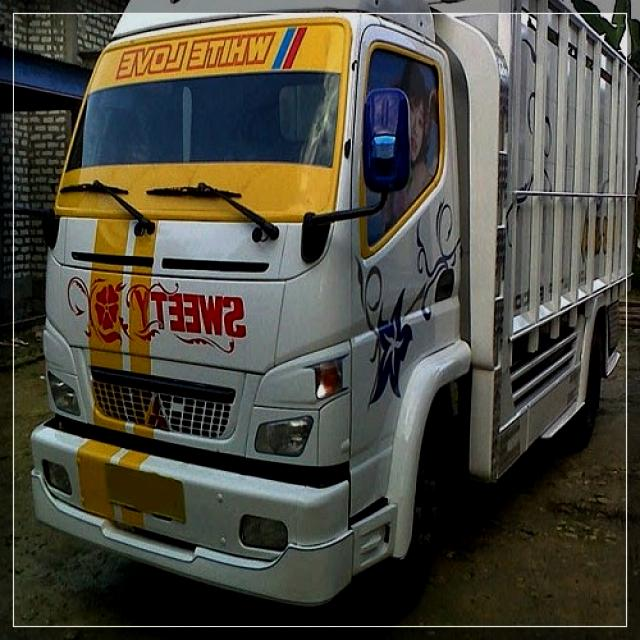truck: (27, 1, 640, 614)
